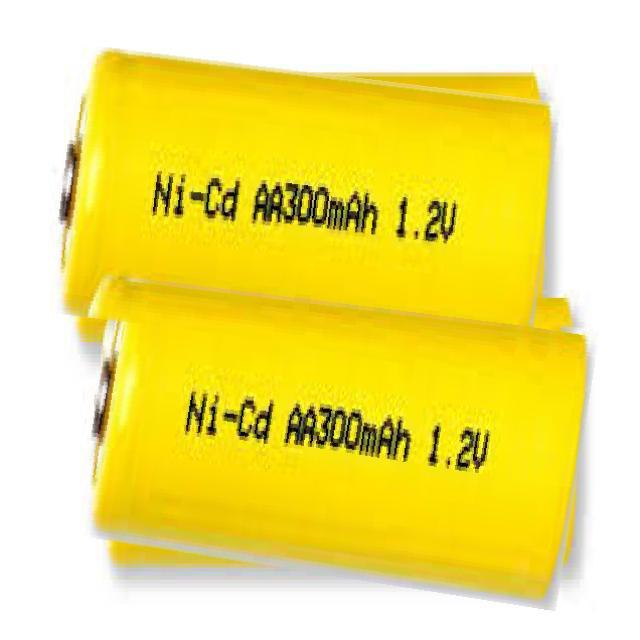Battery: (82, 282, 599, 608), (40, 45, 553, 327)
